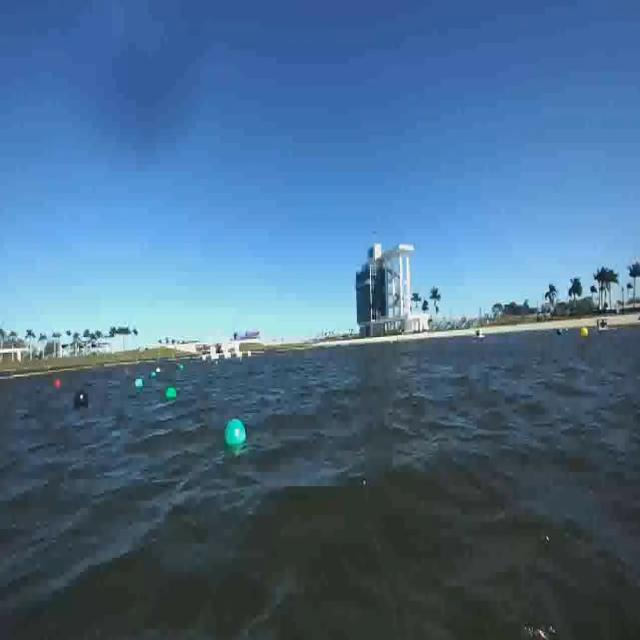black-buoy: (72, 387, 90, 409)
green-buoy: (223, 419, 246, 448), (135, 378, 145, 392), (167, 387, 177, 400)
yellow-buoy: (579, 328, 588, 342)
